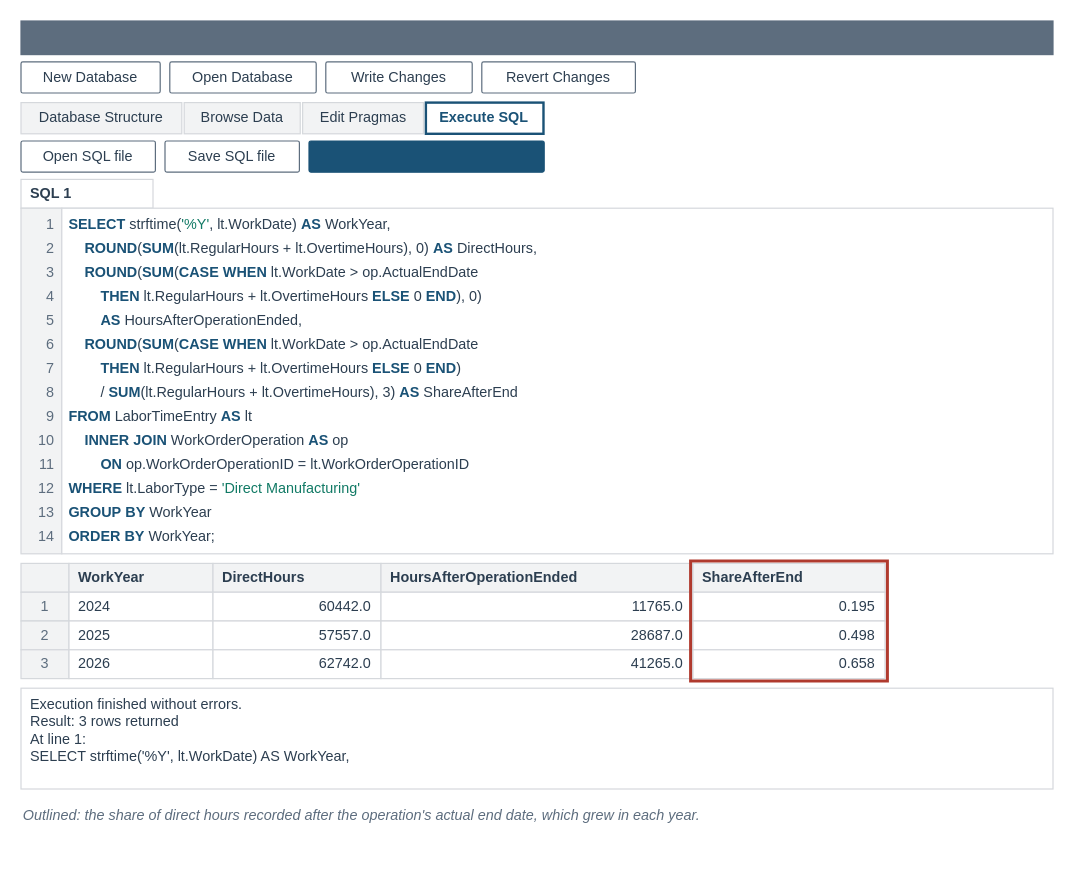
Image size: 1074x870. Some labels were removed from this diagram. Each missing label, with the centre of its shape:
DB Browser for SQLite - CharlesRiver_Work.sqlite: point 536,37
▶ Execute all/selected SQL: point 426,156
